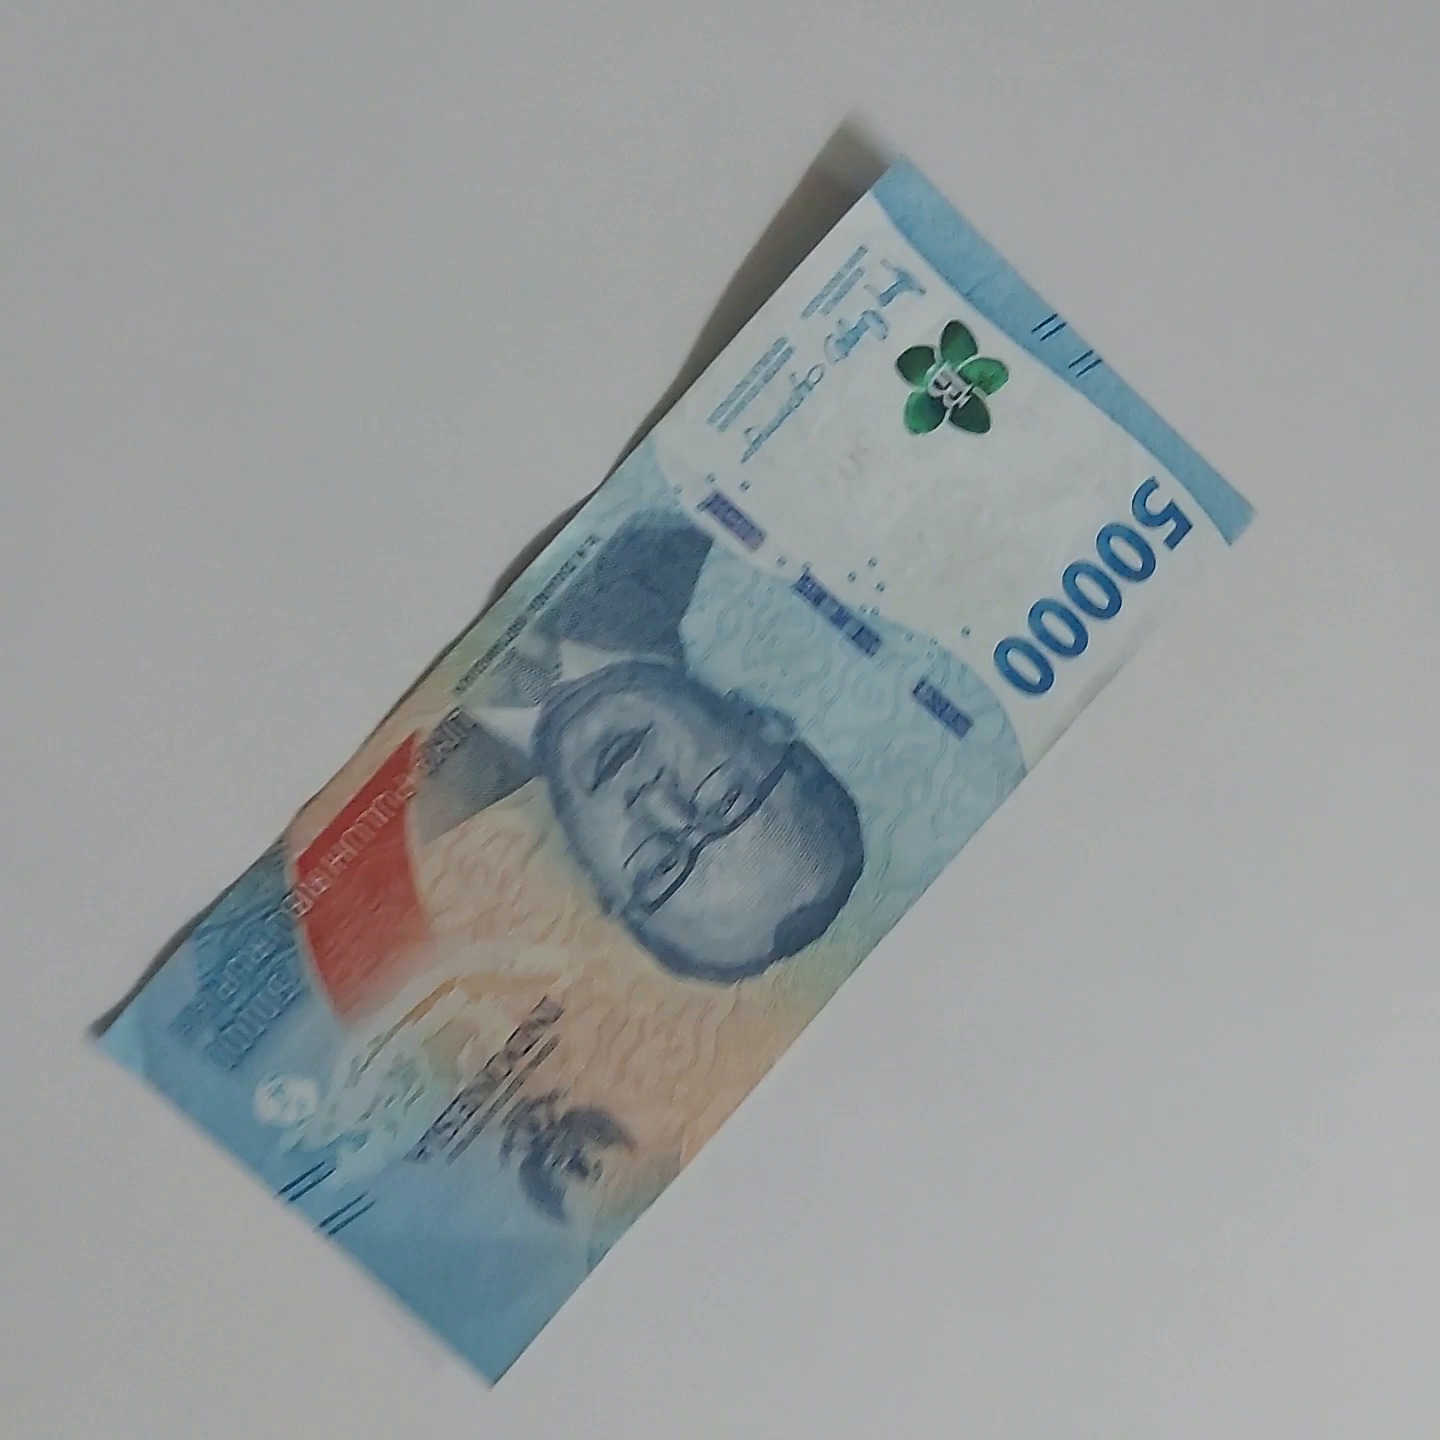50k: (865, 170, 1408, 1313)
